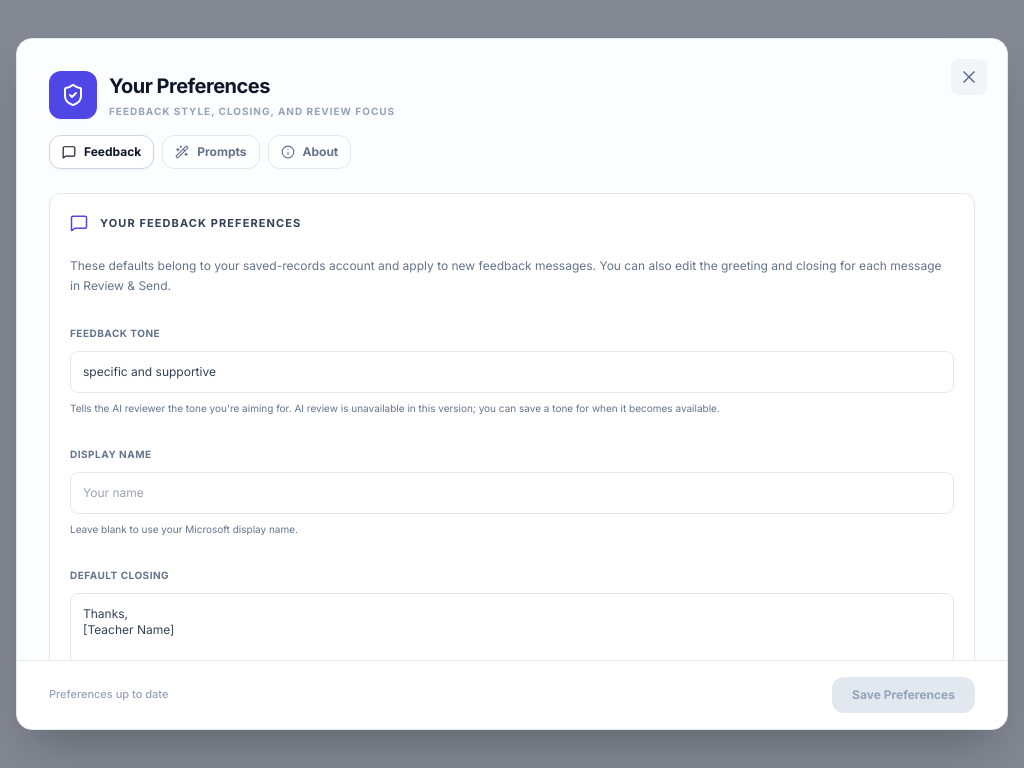
Test: review focus settings › shows six editable review-focus fields with the reviewer defaults and the new help text
Click the button "Prompts". click: (211, 152)
box: [162,135,260,169]
(page scrolled)
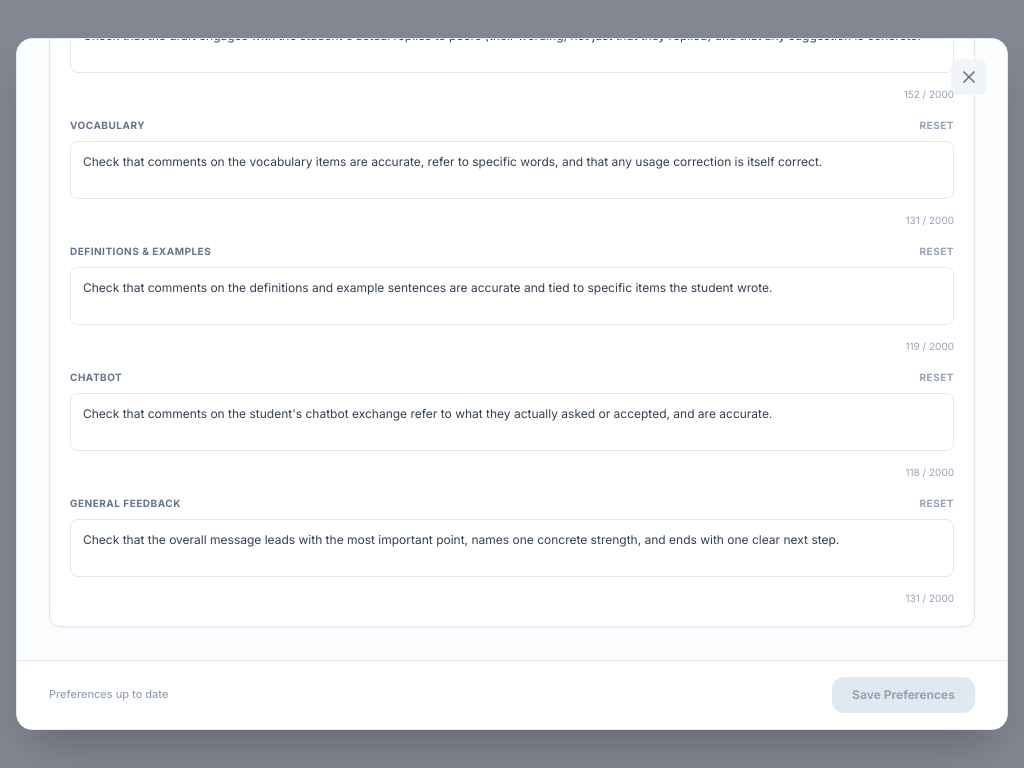
Now the text box with id "settings-review-focus-vocab" holds "Check that comments on the vocabulary items are accurate, refer to specific words, and that any usage correction is itself correct.", box [70,141,954,199]
Now the text box with id "settings-review-focus-overall" holds "Check that the overall message leads with the most important point, names one concrete strength, and ends with one clear next step.", box [70,519,954,577]
Now the text "Chatbot" is shown, box [70,370,122,385]
